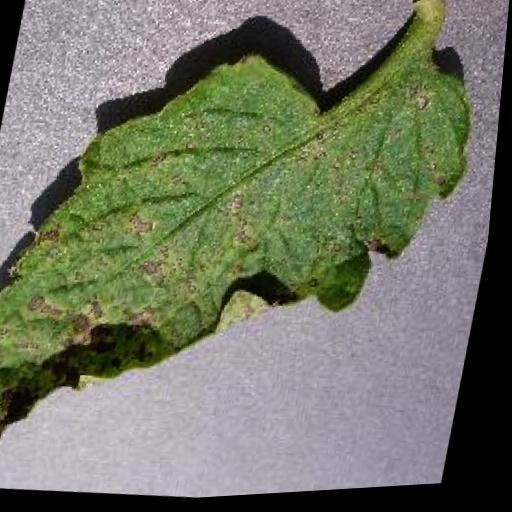Septoria: (0, 18, 489, 512)
